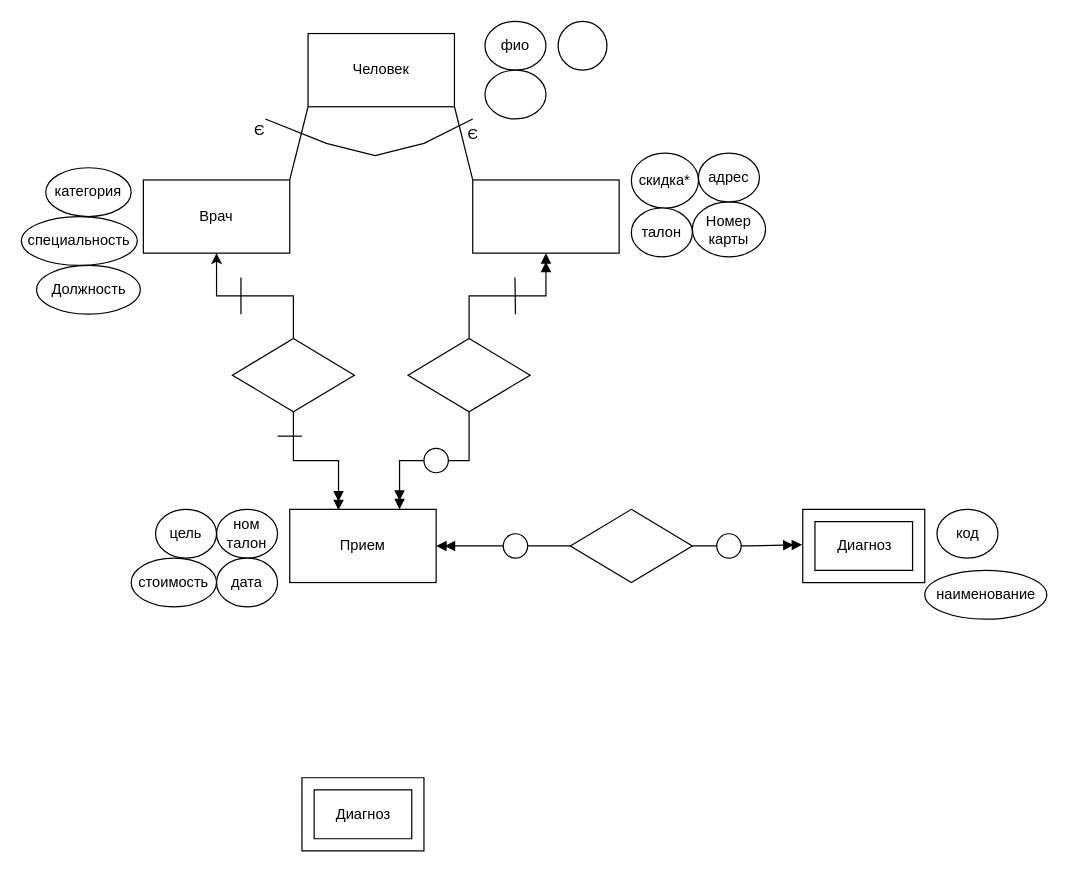
Image size: 1069x872. Some labels were removed from this diagram. The shapes that lost their labels are listed below. From the top down, each one's centre as x and y in pixels, then its label:
At pixel 582 45: "ДР".
At pixel 515 94: "пол".
At pixel 545 216: "Пациент".
At pixel 292 374: "работает".
At pixel 468 374: "приходит".
At pixel 630 545: "ставится".
